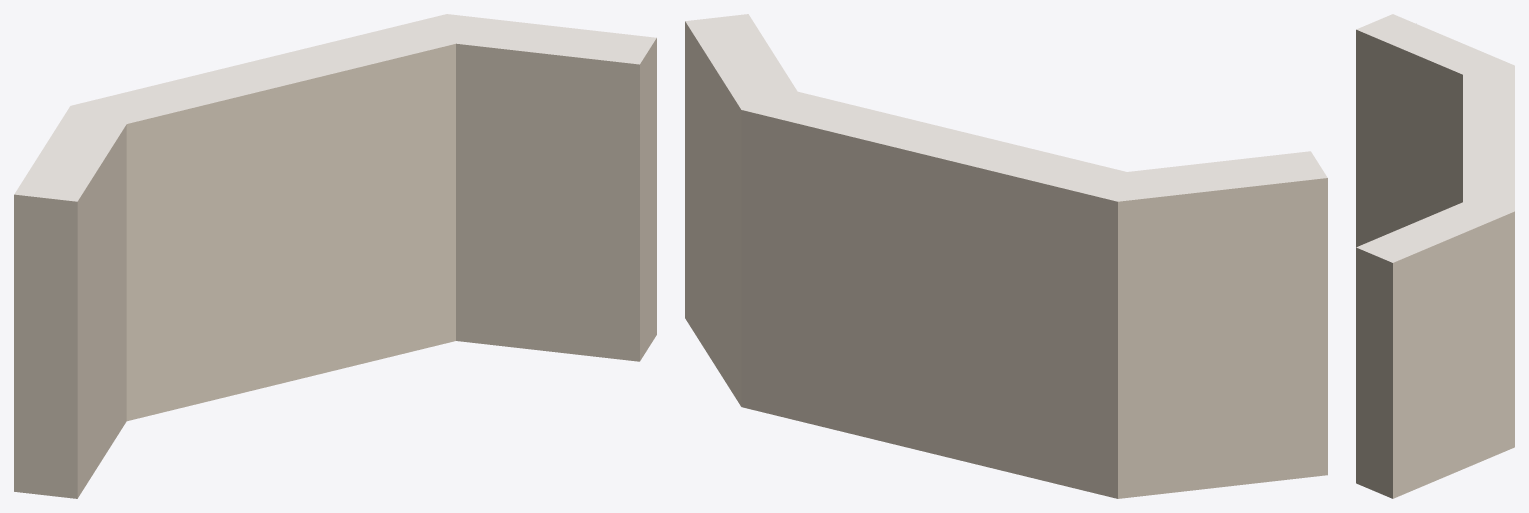
Rendered from Tower_Wall_Normal_Plain.glb.
3 renders of one model, left to right at view 1: azimuth 30°, elevation 25°; view 2: azimuth 150°, elevation 25°; view 3: azimuth 270°, elevation 25°, orthographic. The views are drawn at different scales.
Visible parts, largest first — view 1: Tower_Wall_Normal_Plain; view 2: Tower_Wall_Normal_Plain; view 3: Tower_Wall_Normal_Plain.
Part boxes in pixels (bbox=[...]): Tower_Wall_Normal_Plain: bbox=[14, 14, 656, 498]; Tower_Wall_Normal_Plain: bbox=[685, 14, 1327, 498]; Tower_Wall_Normal_Plain: bbox=[1356, 14, 1514, 498].
Size of the model in its own units: 2.26 by 1 by 0.6101.
